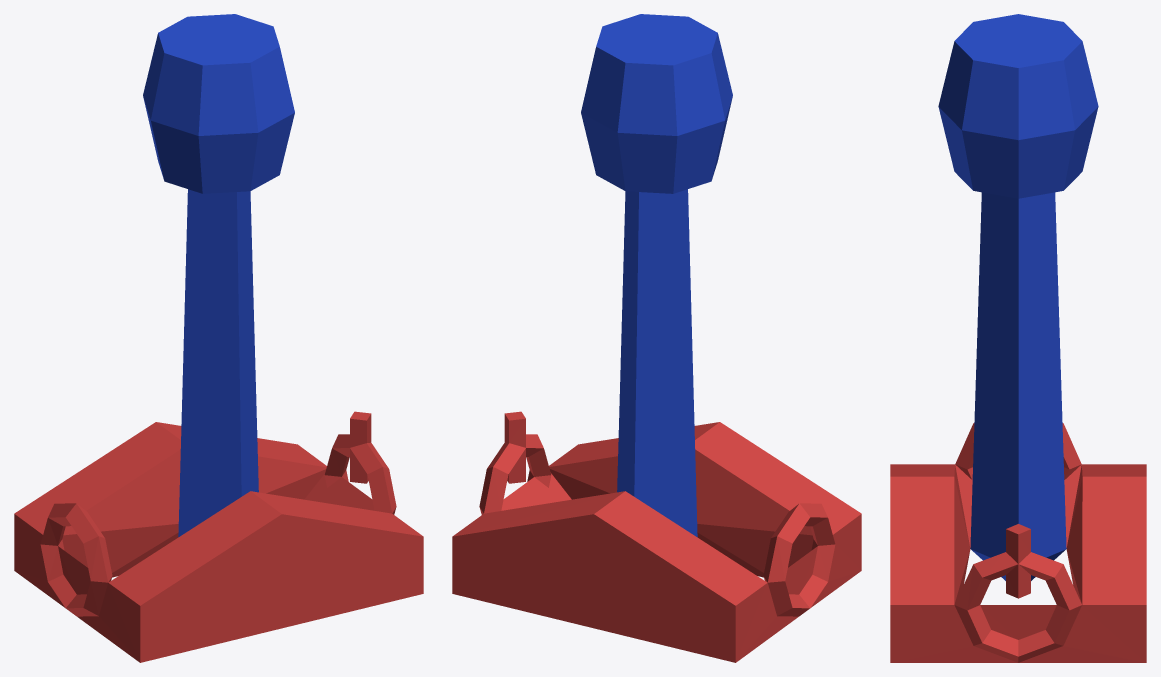
The model's file is switch_export.fbx.
3 views of the same model, side by side, from view 1: azimuth 30°, elevation 25°; view 2: azimuth 150°, elevation 25°; view 3: azimuth 270°, elevation 25° (orthographic).
Visible parts, largest first — view 1: Base, Handle; view 2: Base, Handle; view 3: Handle, Base.
Part boxes in pixels (box(x1,y1,x2,y2)): Base: box(14, 411, 423, 662); Handle: box(143, 14, 294, 537); Base: box(452, 411, 861, 662); Handle: box(581, 14, 732, 537); Handle: box(938, 14, 1098, 580); Base: box(890, 423, 1146, 662).
Bounding box in the file's own units: 280 × 475 × 200.
